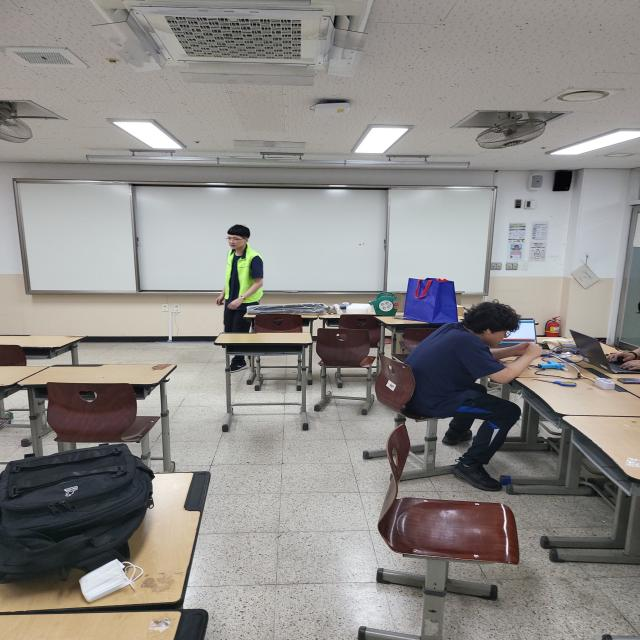weston_spy: (220, 255, 256, 303)
